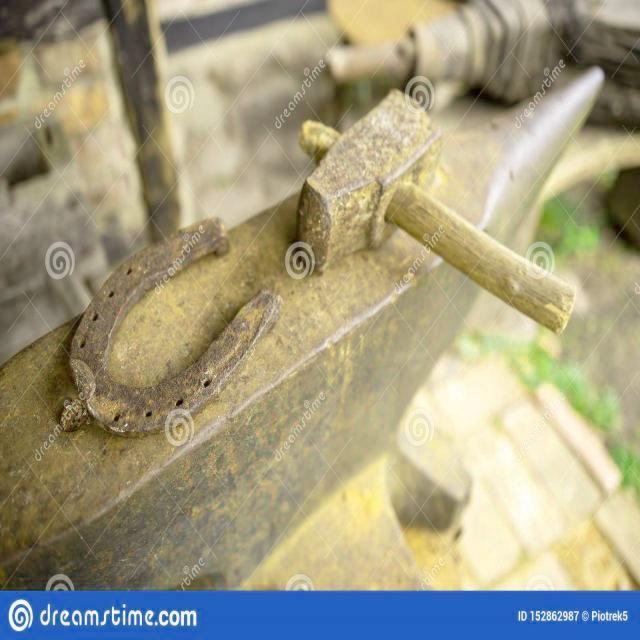hammer: (282, 84, 582, 340)
